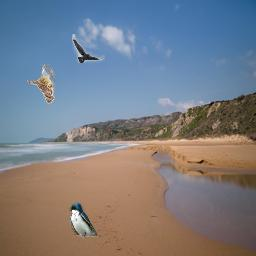Crow: (72, 34, 105, 63)
Sparrow: (27, 64, 55, 104)
Swallow: (69, 202, 98, 242)
